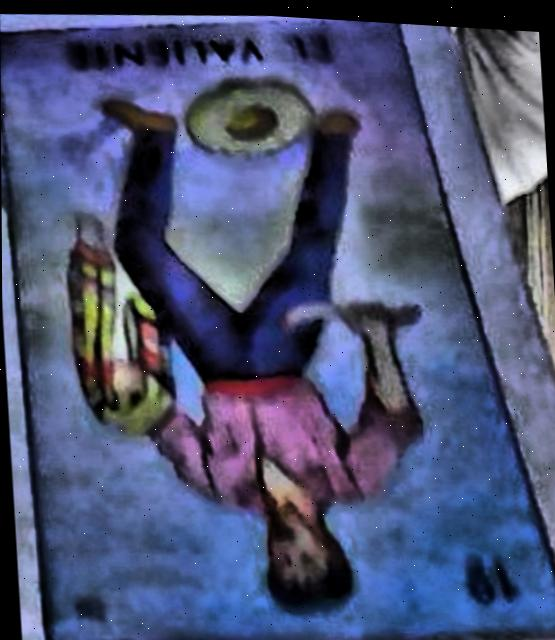El Valiente: (0, 17, 555, 640)
